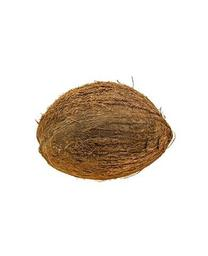coconut: (38, 81, 173, 182)
